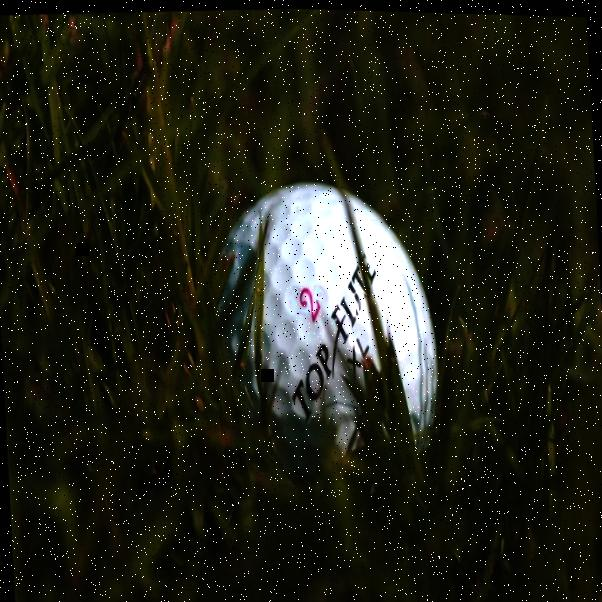GolfBall: (188, 142, 460, 510)
